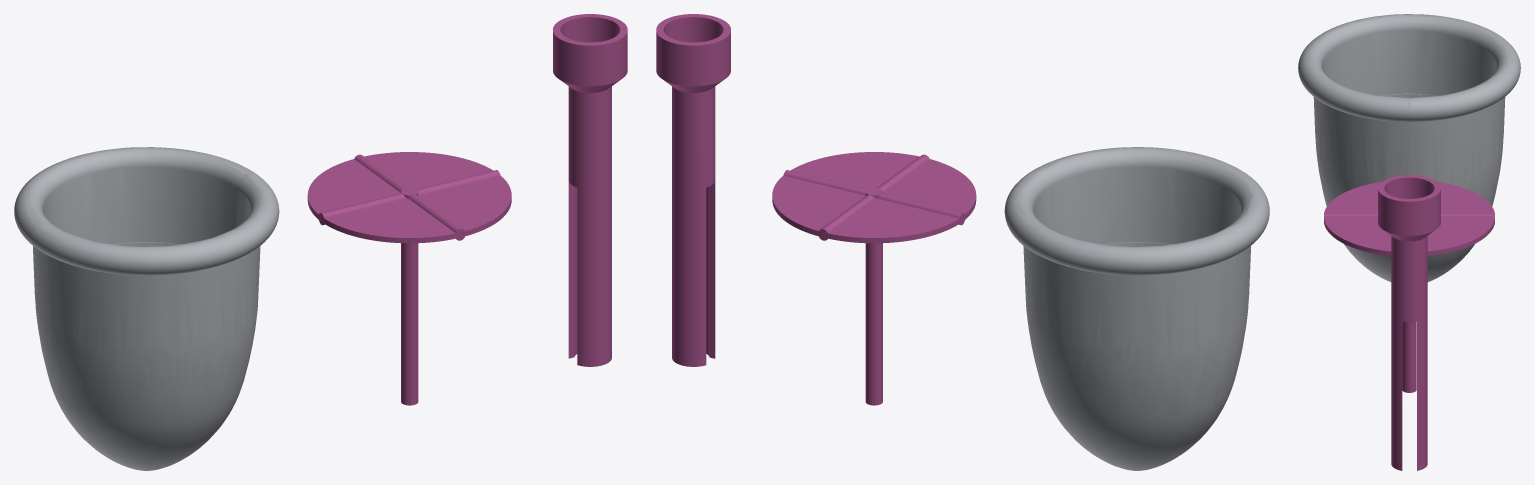
The model's file is concept-umbrella.glb.
3 renders of one model, left to right at view 1: azimuth 30°, elevation 25°; view 2: azimuth 150°, elevation 25°; view 3: azimuth 270°, elevation 25°, orthographic. The views are drawn at different scales.
Visible parts, largest first — view 1: menstrual-cup-medium-without-umbrella-0, menstrual-cup-medium-without-umbrella-0.001, umbrella-top-open-full-6, umbrella-contain-silicone-0, umbrella-contain-silicone-1, umbrella-top-open-full-5; view 2: menstrual-cup-medium-without-umbrella-0.001, menstrual-cup-medium-without-umbrella-0, umbrella-top-open-full-6, umbrella-contain-silicone-0, umbrella-contain-silicone-1, umbrella-top-open-full-5; view 3: menstrual-cup-medium-without-umbrella-0.001, menstrual-cup-medium-without-umbrella-0, umbrella-contain-silicone-0, umbrella-top-open-full-6, umbrella-contain-silicone-1, umbrella-top-open-full-5, umbrella-top-open-full-1, umbrella-top-open-full-3.
Boxes of the visible parts, x1,y1,x2,y2 form: menstrual-cup-medium-without-umbrella-0: (32, 173, 279, 470); menstrual-cup-medium-without-umbrella-0.001: (14, 147, 255, 443); umbrella-top-open-full-6: (307, 152, 511, 243); umbrella-contain-silicone-0: (560, 80, 619, 366); umbrella-contain-silicone-1: (553, 14, 627, 86); umbrella-top-open-full-5: (401, 243, 418, 405); menstrual-cup-medium-without-umbrella-0.001: (1004, 173, 1251, 470); menstrual-cup-medium-without-umbrella-0: (1028, 147, 1269, 449); umbrella-top-open-full-6: (772, 152, 976, 243); umbrella-contain-silicone-0: (664, 80, 723, 366); umbrella-contain-silicone-1: (656, 14, 730, 86); umbrella-top-open-full-5: (865, 243, 882, 405); menstrual-cup-medium-without-umbrella-0.001: (1409, 14, 1520, 281); menstrual-cup-medium-without-umbrella-0: (1298, 14, 1409, 281); umbrella-contain-silicone-0: (1384, 230, 1434, 470); umbrella-top-open-full-6: (1324, 182, 1494, 255); umbrella-contain-silicone-1: (1378, 175, 1440, 235); umbrella-top-open-full-5: (1402, 322, 1416, 392); umbrella-top-open-full-1: (1441, 213, 1494, 217); umbrella-top-open-full-3: (1324, 213, 1377, 217).
Size of the model in its own units: 0.1184 by 0.0628 by 0.046.
